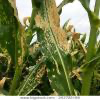Corn leaf blight: (34, 0, 81, 99), (0, 0, 27, 72), (16, 54, 47, 100)
